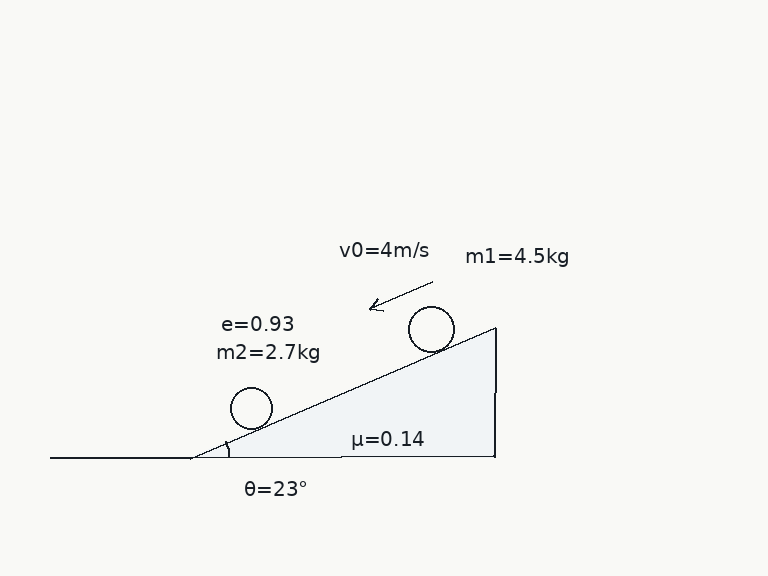ball: (406, 304, 456, 354), (228, 385, 274, 431)
ramp: (187, 325, 497, 459)
